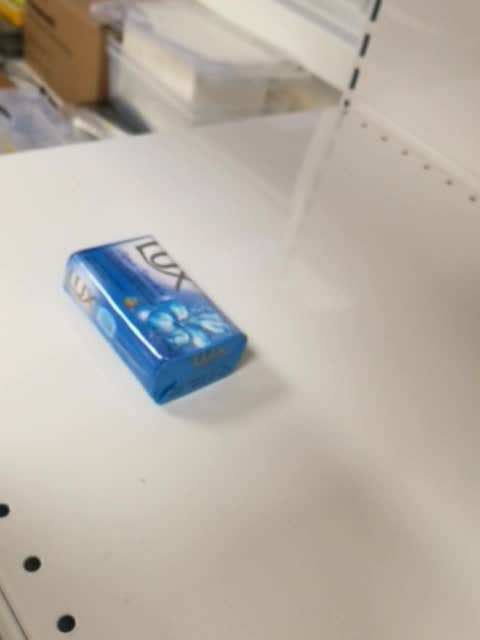soap: (61, 234, 250, 406)
